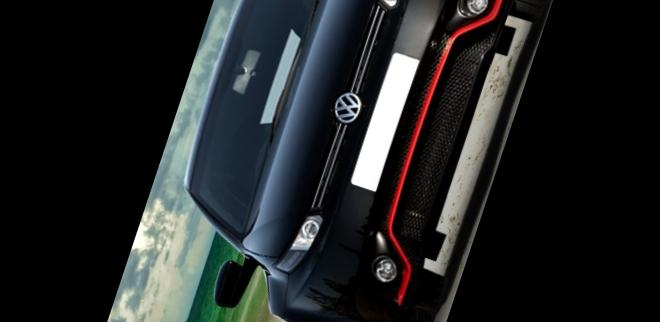plate: (347, 45, 427, 194)
